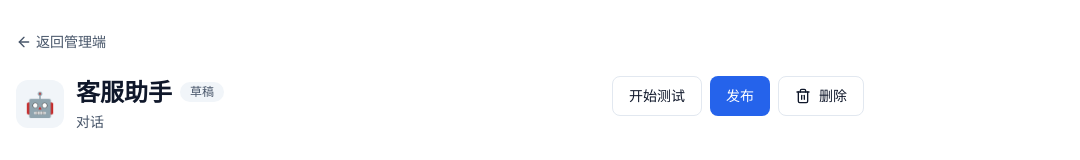
Test case: AgentDetailPage start-testing action › starts testing on the click itself, using the current version
This screenshot has width=1080, height=160.
Click the button "开始测试": (657, 96) [612,76,702,116]
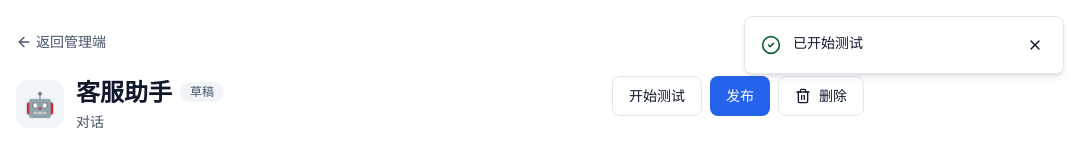
Expected: the text "已开始测试" is shown, [793,33,863,52]
